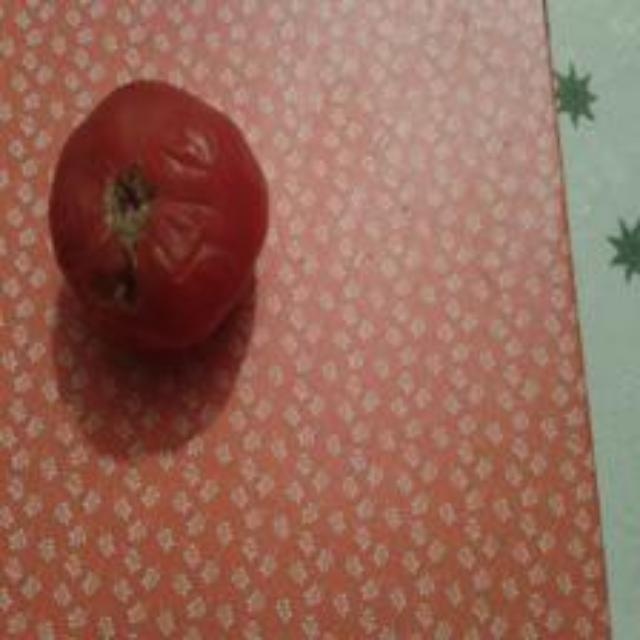defect: (46, 75, 273, 357)
